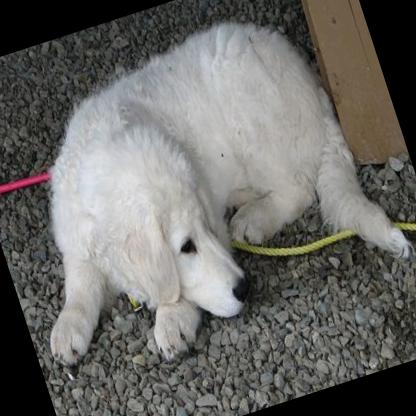kuvasz: (0, 0, 416, 402)
